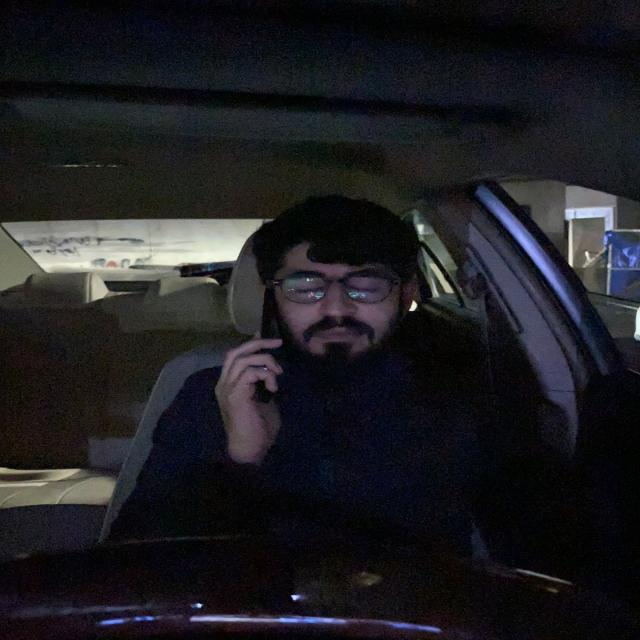mobile: (242, 290, 297, 392)
person: (259, 200, 419, 370)
